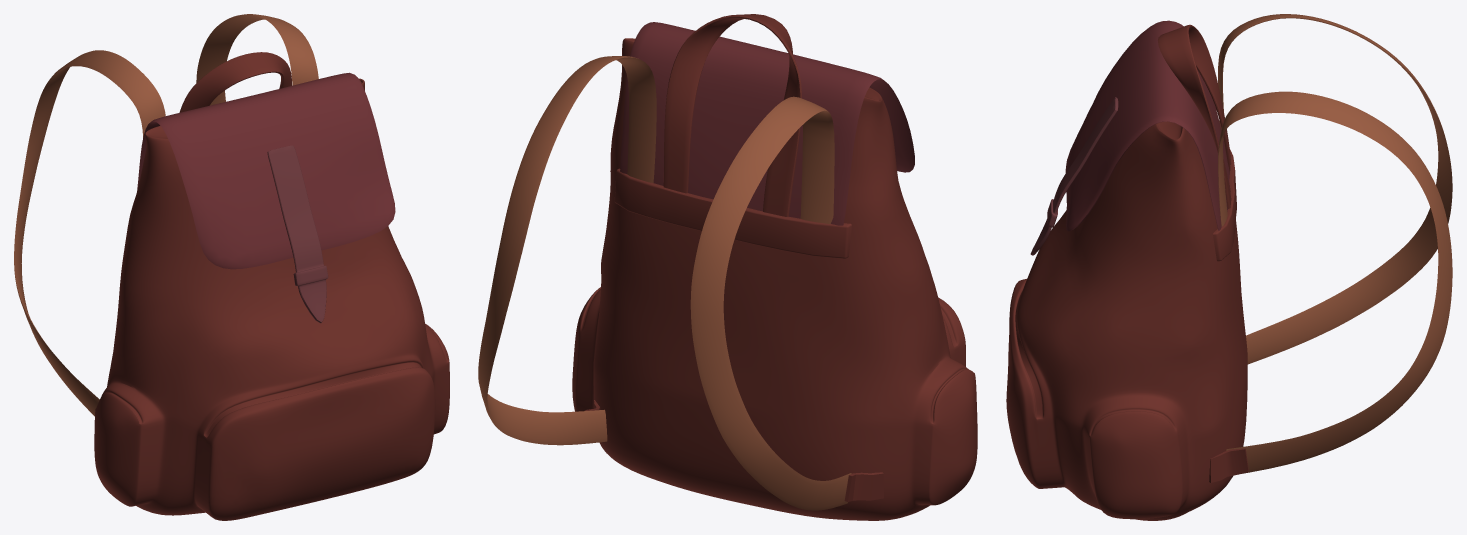
The model's file is Bag_red.fbx.
The picture shows the model from 3 angles, left to right: view 1: azimuth 30°, elevation 25°; view 2: azimuth 150°, elevation 25°; view 3: azimuth 270°, elevation 25°; orthographic projection. The views are drawn at different scales.
Visible parts, largest first — view 1: Bag_red; view 2: Bag_red; view 3: Bag_red.
Part boxes in pixels (x1=…): Bag_red: x1=14, y1=14, x2=449, y2=520; Bag_red: x1=478, y1=14, x2=977, y2=520; Bag_red: x1=1006, y1=14, x2=1452, y2=520.
Bounding box in the file's own units: 36.21 × 43.12 × 40.13.
